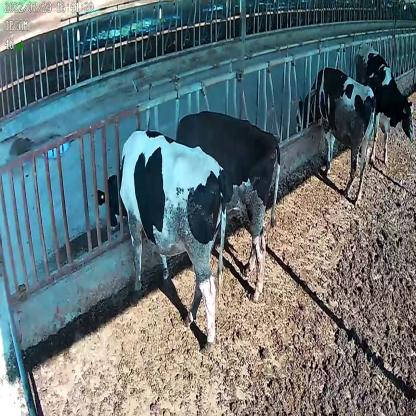cow: (95, 126, 228, 352), (173, 112, 282, 305), (296, 66, 376, 203), (355, 39, 416, 166)
